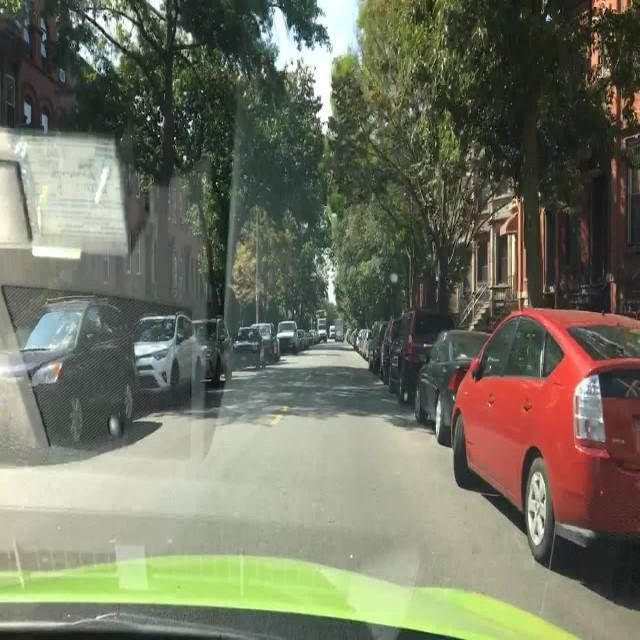normal: (448, 309, 640, 571), (22, 300, 145, 447), (415, 326, 492, 441), (388, 310, 459, 404), (132, 313, 198, 408), (193, 319, 232, 389), (237, 324, 284, 368), (275, 321, 305, 355)
